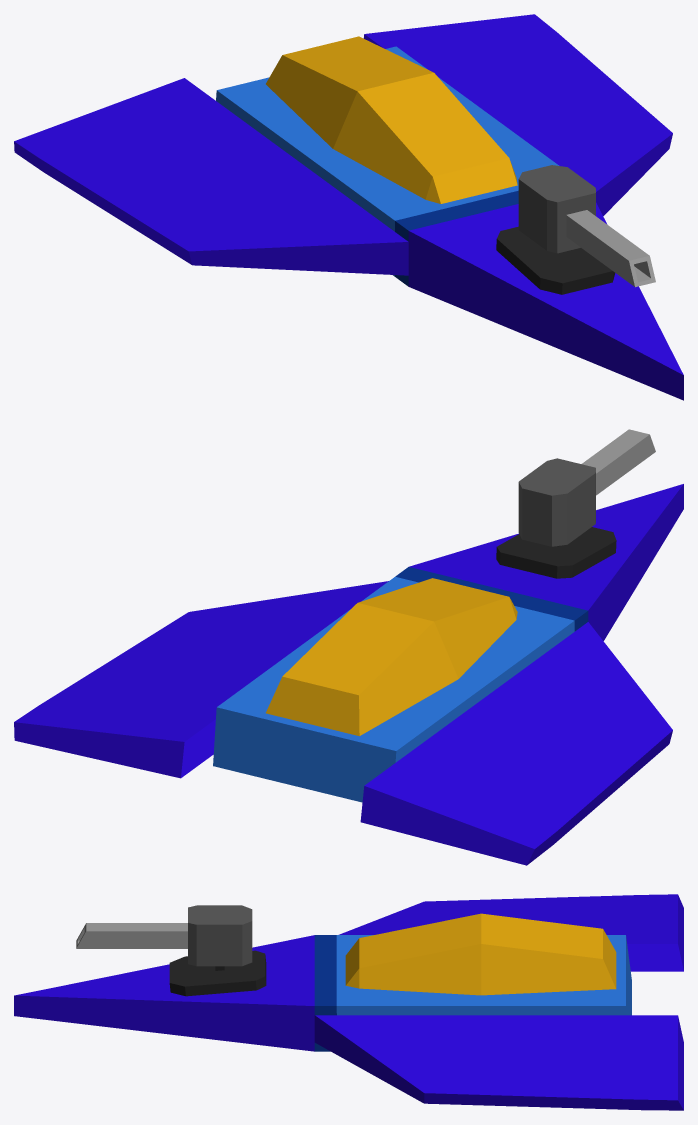
File: NavePersonagemTriangulo.fbx
3 renders of one model, top to bottom at view 1: azimuth 30°, elevation 25°; view 2: azimuth 150°, elevation 25°; view 3: azimuth 270°, elevation 25°, orthographic. The views are drawn at different scales.
Parts seen in each view (by area): view 1: navePrincipal, armaPrincipal; view 2: navePrincipal, armaPrincipal; view 3: navePrincipal, armaPrincipal.
Boxes of the visible parts, x1,y1,x2,y2 form: navePrincipal: (14, 14, 683, 400); armaPrincipal: (518, 165, 655, 287); navePrincipal: (14, 484, 683, 865); armaPrincipal: (518, 429, 655, 546); navePrincipal: (14, 894, 683, 1110); armaPrincipal: (76, 905, 252, 966).
Size of the model in its own units: 1942 by 444 by 2669.
